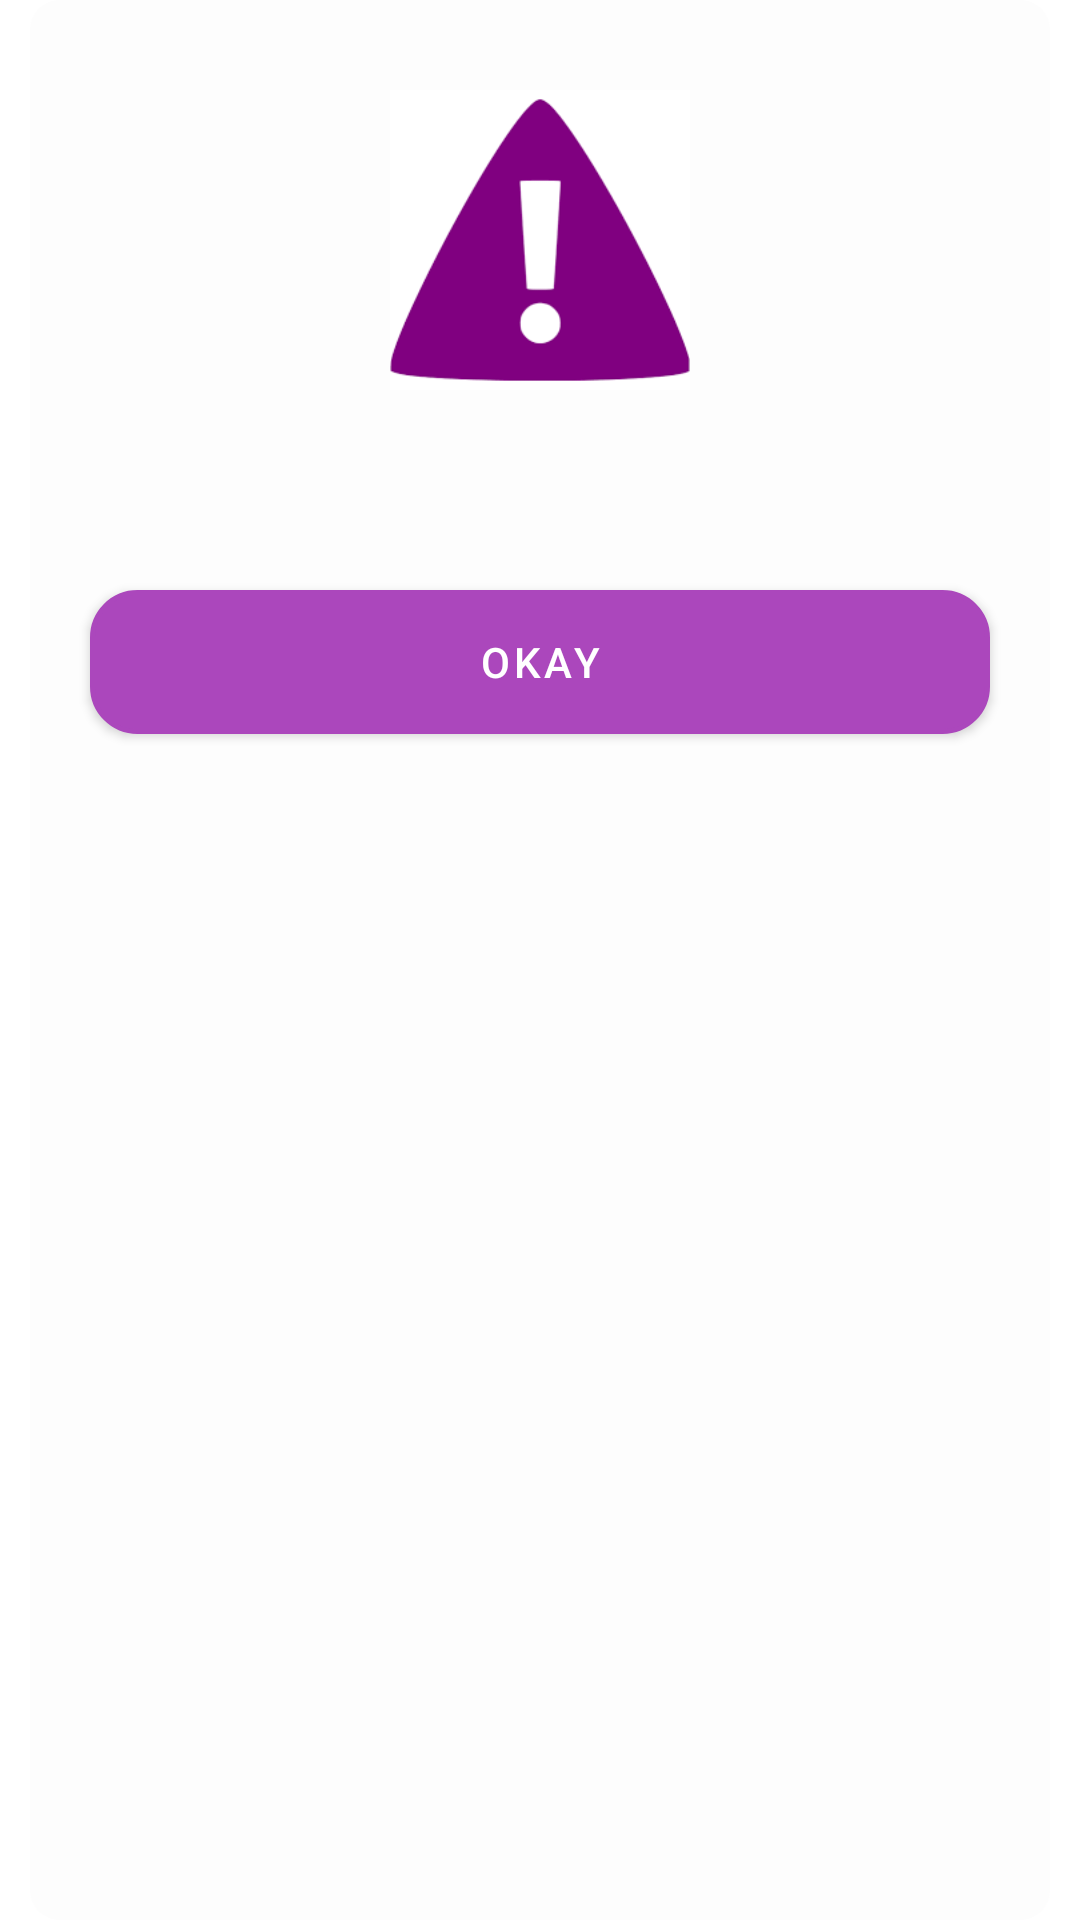

Icons on this 1080 x 1920 Android screen, each with its box as [x1,y1,x2,y2]:
alert: [390,99,690,381]
